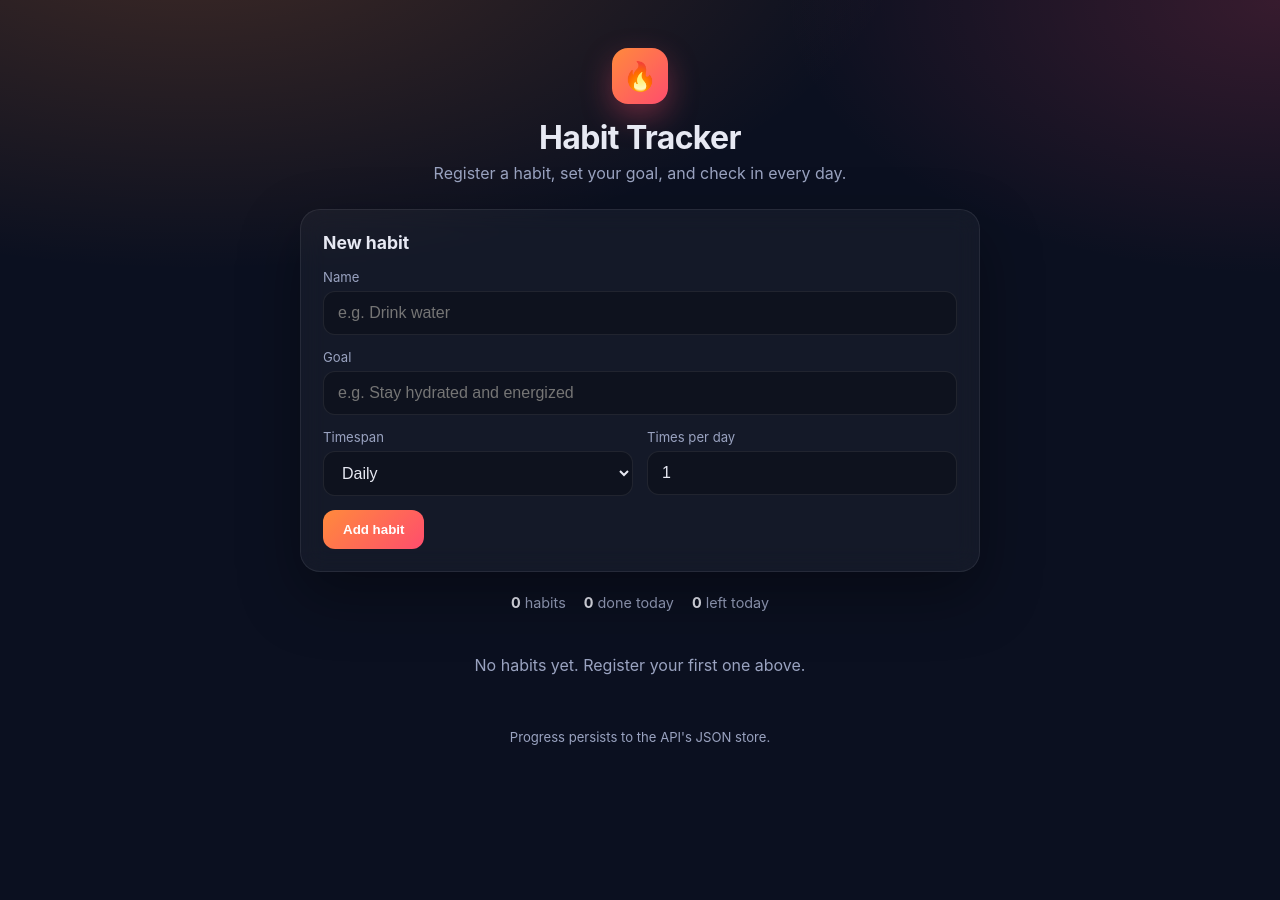
Test: Habit Tracker App › registers a habit and checks in to complete it
The width and height of the screenshot is (1280, 900).
Check: the text "No habits yet. Register your first one above." is shown, box [474,655,805,675]
Type "Meditate" into the field named "habit name". click: (640,313)
box: [323,291,957,335]
Type "Calm mornings" into the field labelled "Goal". click: (640,393)
box: [323,371,957,415]
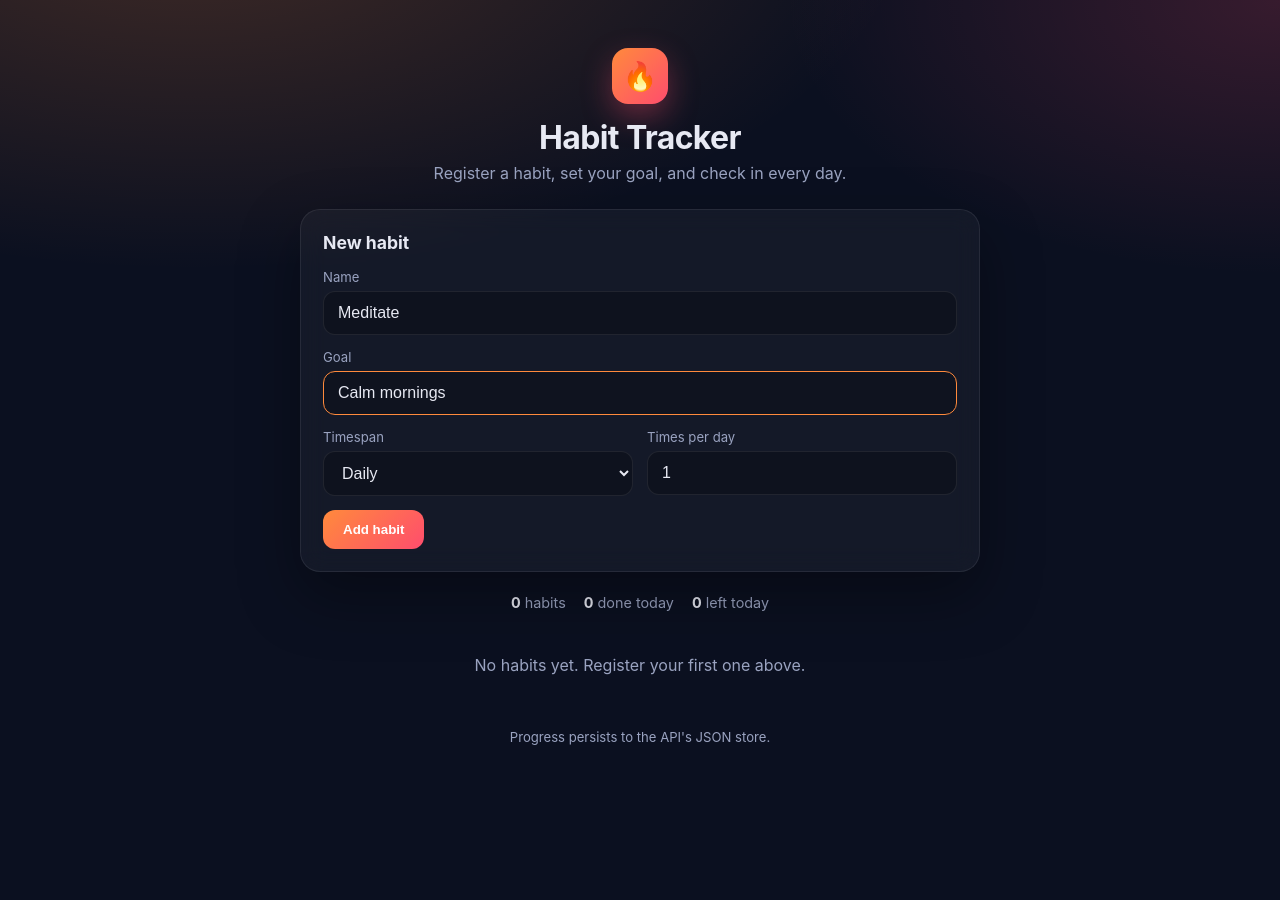
Select "Daily" in the dropdown labelled "Timespan". click: (478,474)
box: [323,451,633,496]
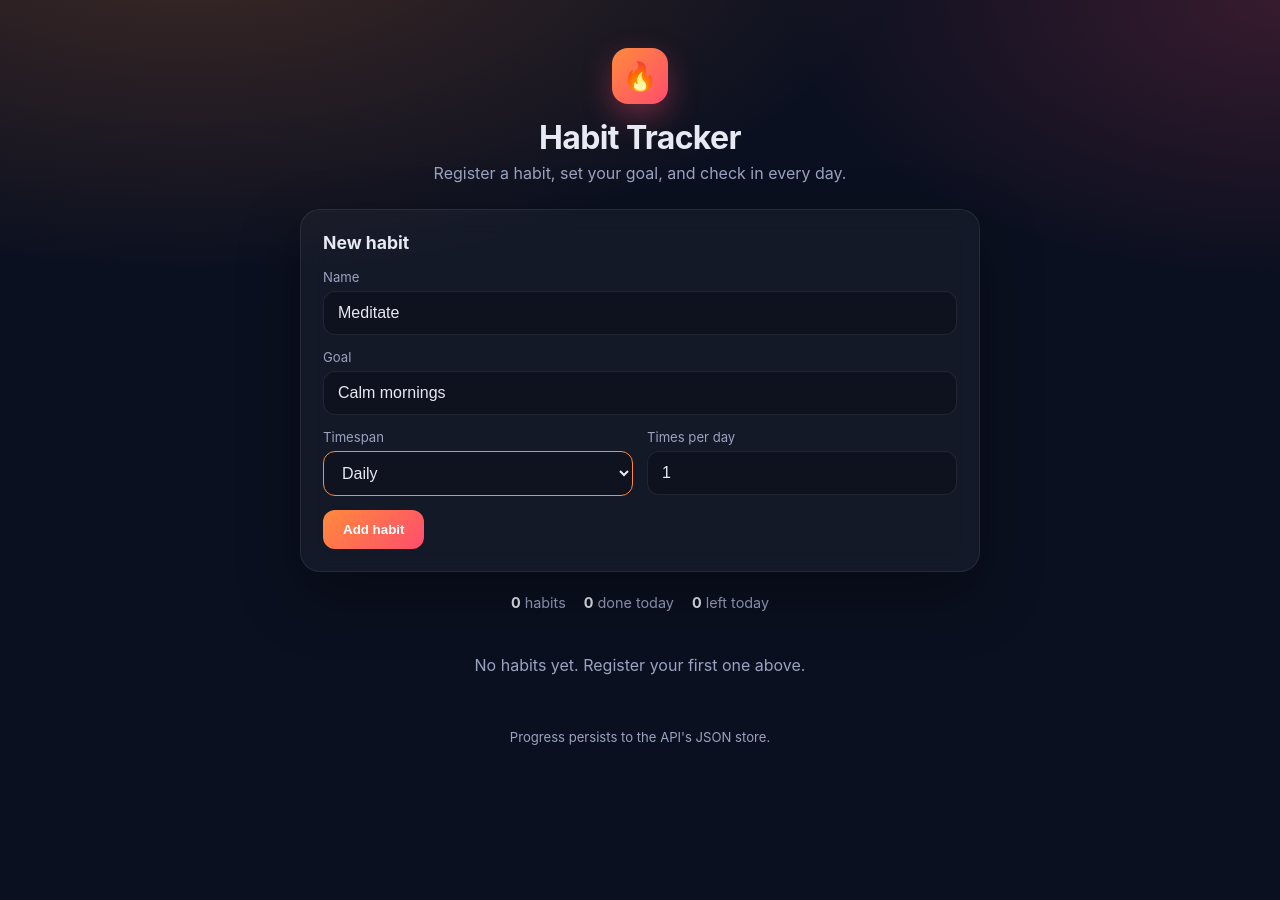
Replace the text in the number field labelled "Times per day" with "2". click: (802,473)
box: [647,451,957,495]
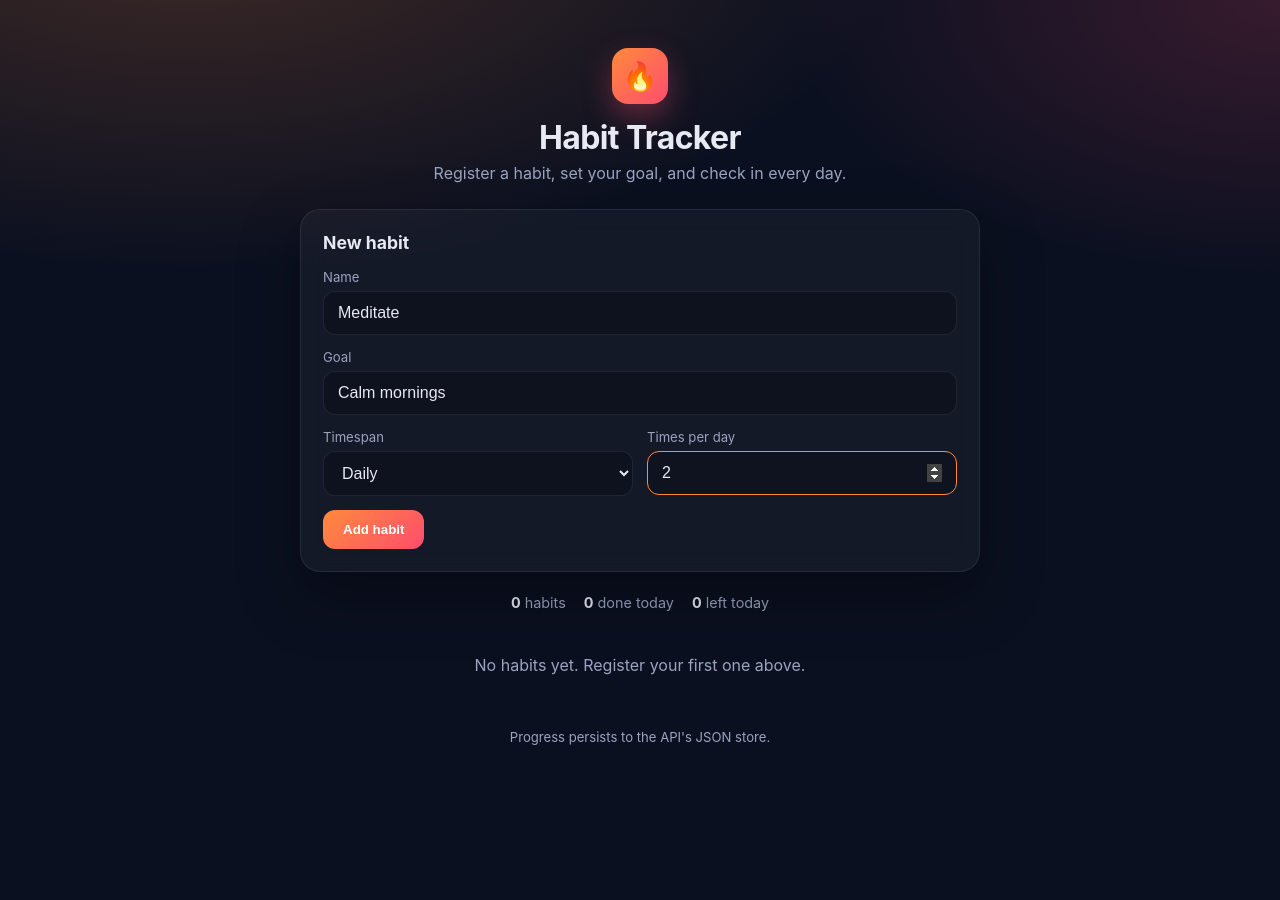
Click the button "Add habit". click: (374,530)
box: [323,510,424,549]
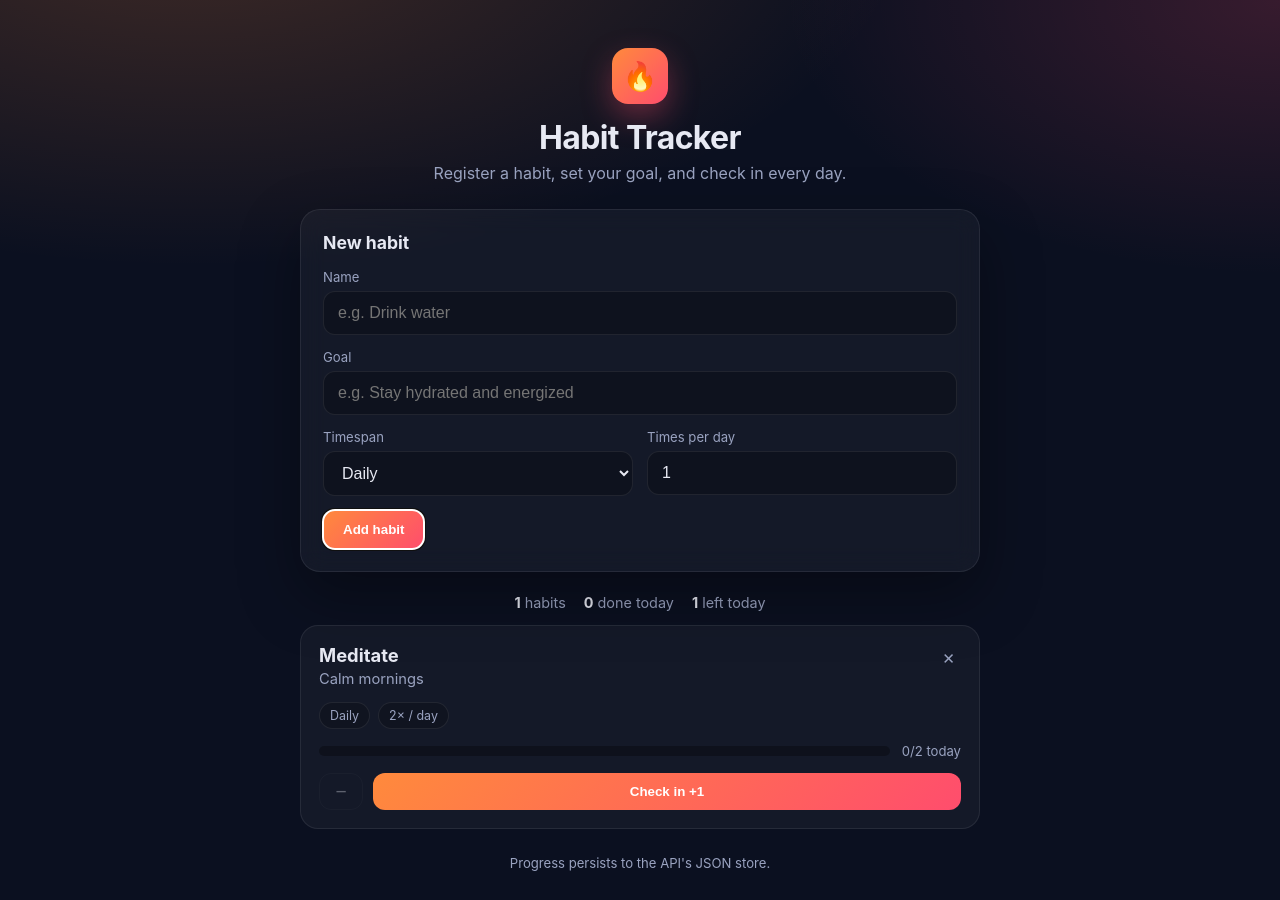
Check: the heading "Meditate" is shown, box [319,644,399,666]
Check: the text "Calm mornings" is shown, box [319,670,424,688]
Check: the text "0/2 today" is shown, box [902,743,961,759]
Click the button with aria-label "check in meditate". click: (667,792)
box: [373,773,961,810]
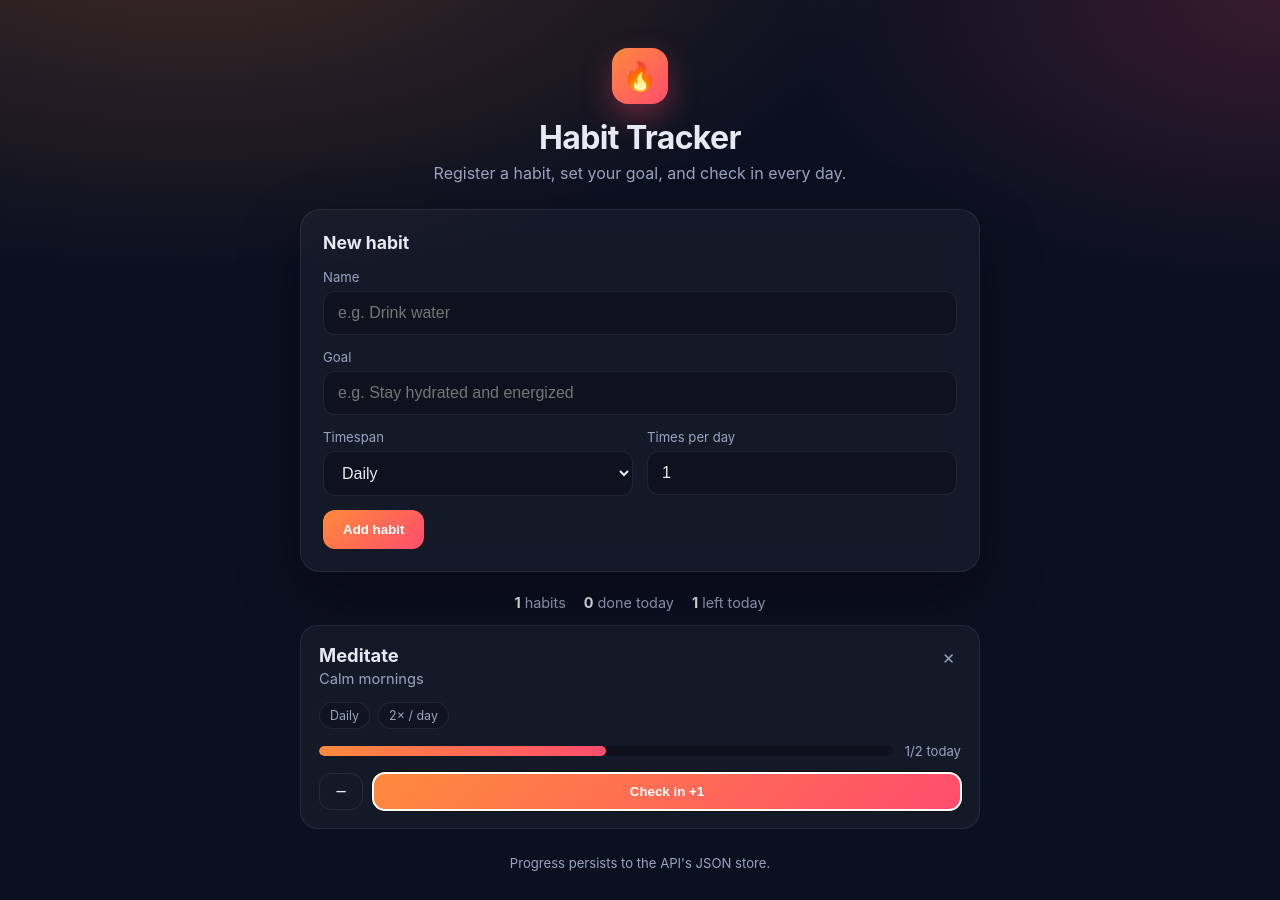
Check: the text "1/2 today" is shown, box [905,743,961,759]
Click the button with aria-label "check in meditate". click: (667,792)
box: [373,773,961,810]
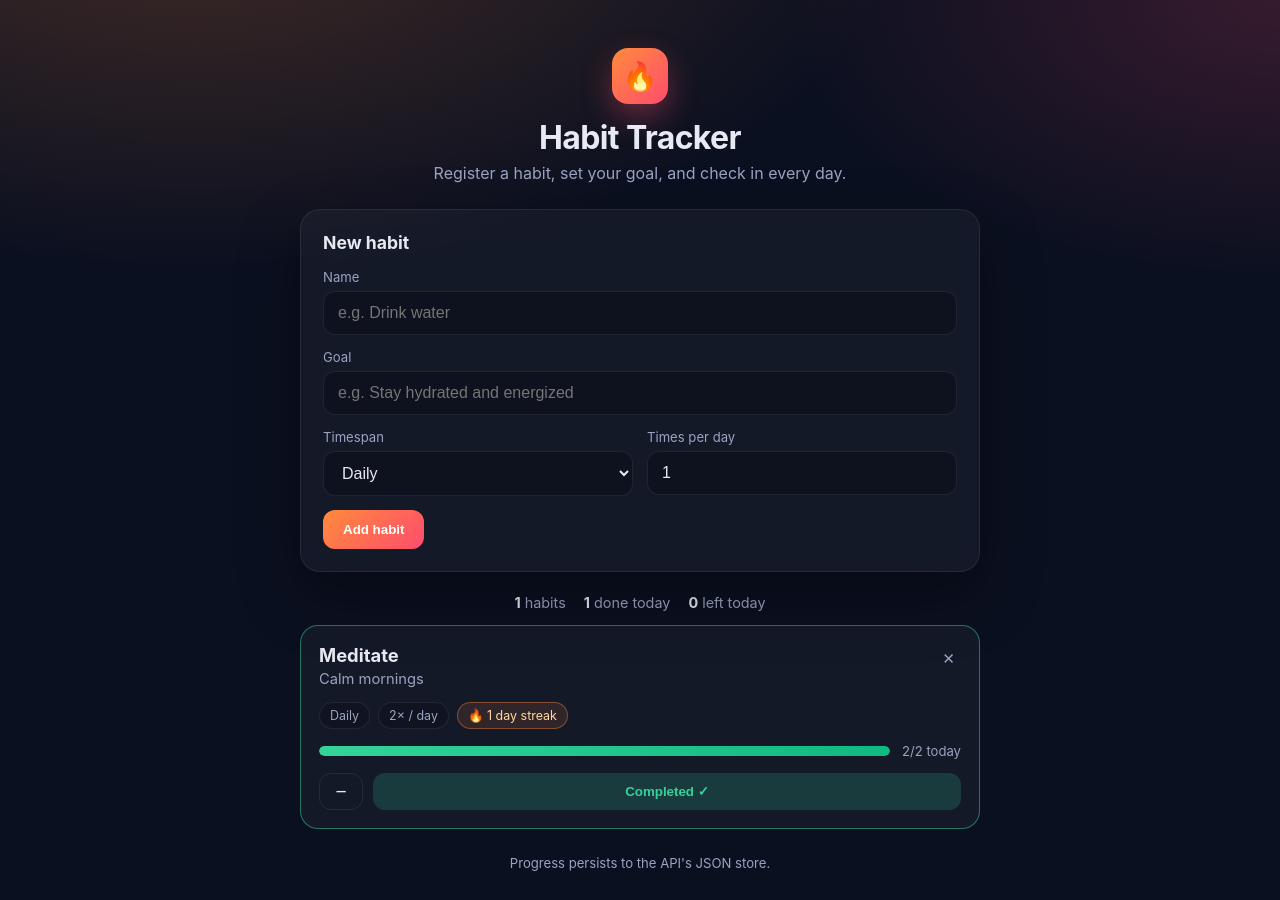
Check: the text "2/2 today" is shown, box [902,743,961,759]
Check: the button with aria-label "check in meditate" is disabled, box [373,773,961,810]
Check: the button with aria-label "check in meditate" shows "Completed", box [373,773,961,810]
